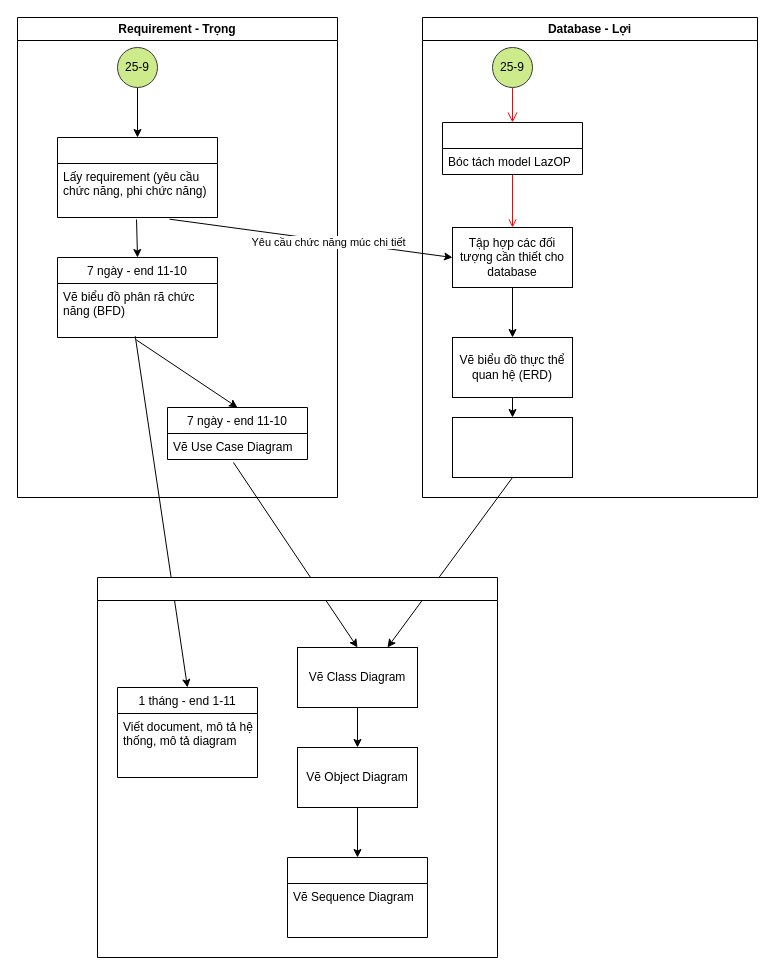
This 775x975 diagram has some shape labels left out. Each missing label, with the box of its shape:
7 ngày: (442, 122, 582, 174)
9 ngày - end 4-10: (56, 136, 218, 218)
end 1-11: (286, 856, 428, 938)
Quick design - Trọng: (96, 576, 498, 958)
Vẽ mô hình dữ liệu mức vật lý ( cài đặt database ): (452, 416, 572, 478)
